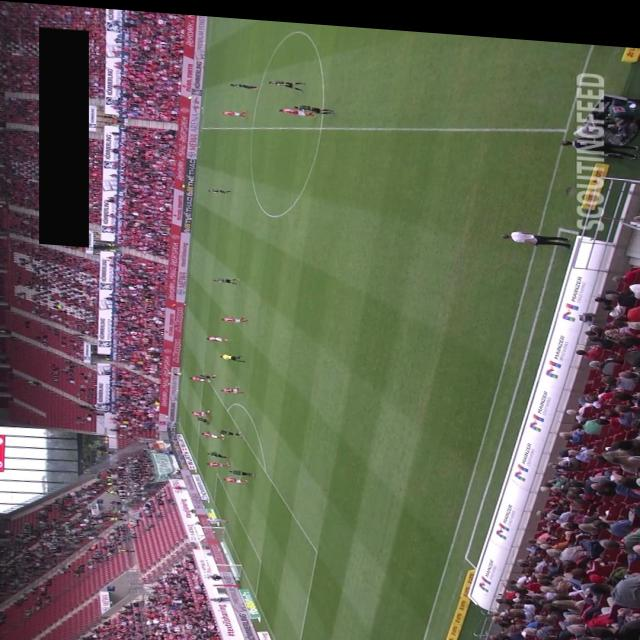goalkeeper: (205, 513, 229, 520)
player: (292, 99, 334, 111), (268, 75, 306, 87), (278, 103, 316, 112), (220, 104, 248, 114), (212, 272, 240, 280), (220, 311, 248, 319), (200, 427, 224, 436), (218, 424, 242, 433), (220, 381, 244, 390), (228, 464, 254, 472), (230, 79, 259, 86), (222, 472, 248, 479), (191, 406, 211, 415), (188, 371, 212, 378), (206, 457, 230, 464), (206, 331, 230, 338), (206, 447, 228, 454), (208, 184, 232, 190), (195, 412, 211, 421), (199, 369, 217, 375)
referee: (219, 349, 245, 358), (165, 368, 183, 373)
